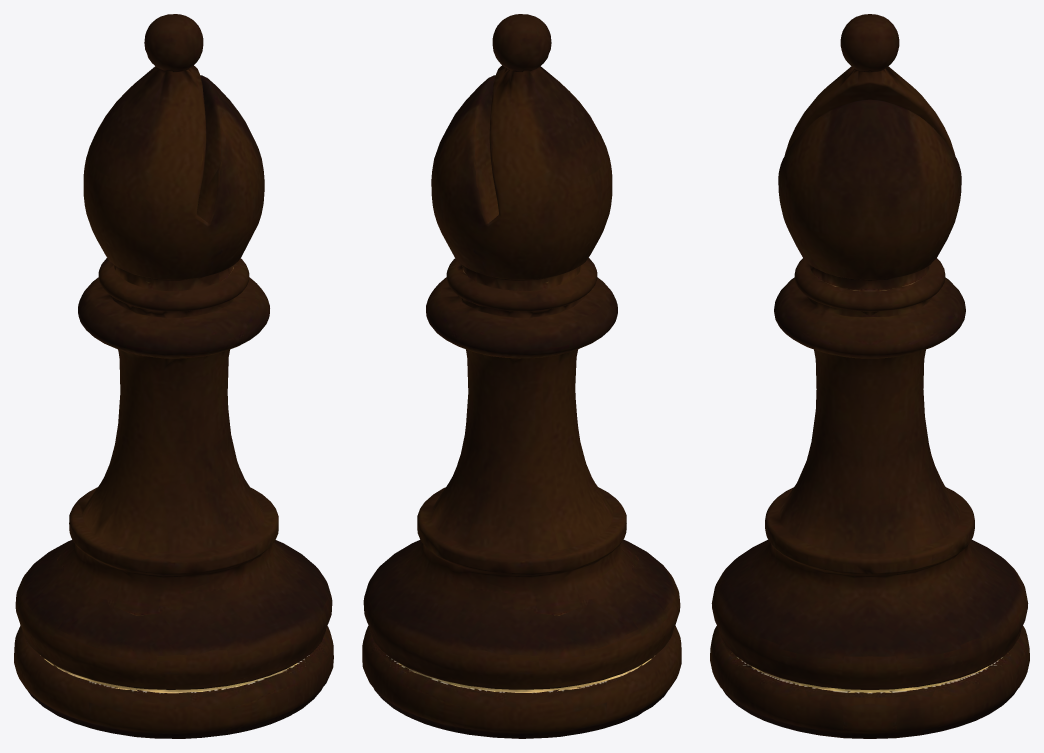
Rendered from bishop_dark.glb.
3 views of the same model, side by side, from view 1: azimuth 30°, elevation 25°; view 2: azimuth 150°, elevation 25°; view 3: azimuth 270°, elevation 25° (orthographic).
Parts seen in each view (by area): view 1: geometry_0; view 2: geometry_0; view 3: geometry_0.
Part boxes in pixels (x1,y1,x2,y2): geometry_0: [14, 14, 333, 738]; geometry_0: [362, 14, 681, 738]; geometry_0: [710, 14, 1029, 738].
Bounding box in the file's own units: 0.4838 × 1.1 × 0.4835.
1 material, 1 textured.
